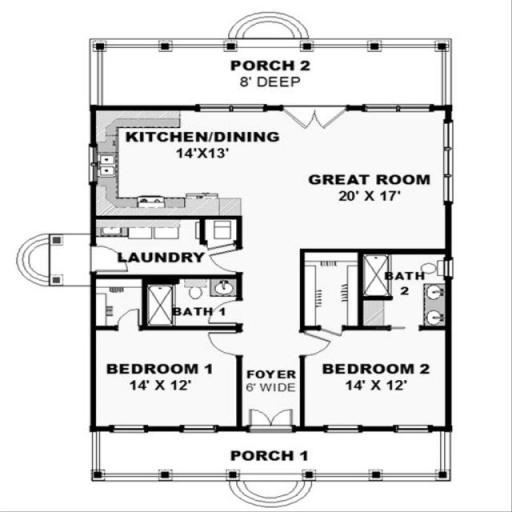Room: (308, 114, 450, 254)
bathroom: (311, 257, 451, 323), (91, 286, 244, 325)
bedroom: (314, 335, 446, 428), (105, 333, 230, 424)
kitchen: (104, 111, 298, 212)
laundary: (104, 234, 237, 282)
porch: (111, 48, 456, 105), (107, 434, 442, 482)
